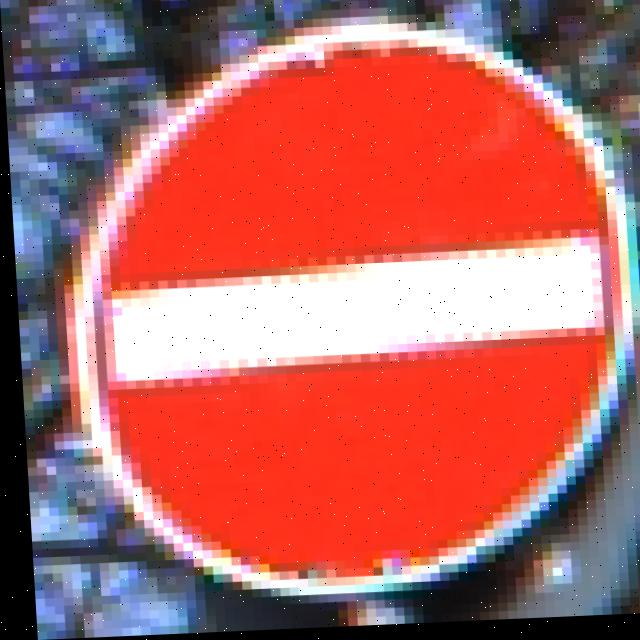road_rough: (30, 4, 640, 622)
